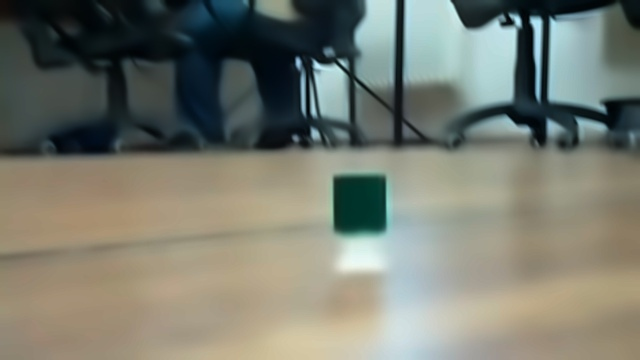rect: (311, 163, 408, 279)
